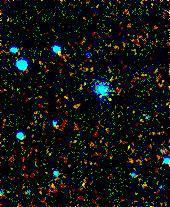star: (93, 84, 123, 114)
